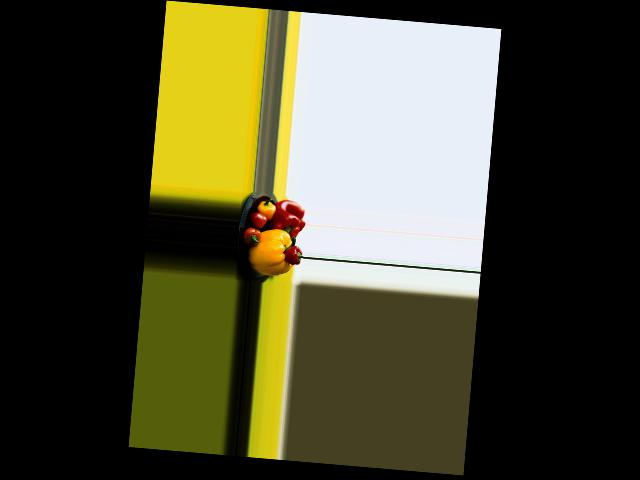bell_pepper: (257, 198, 277, 219)
